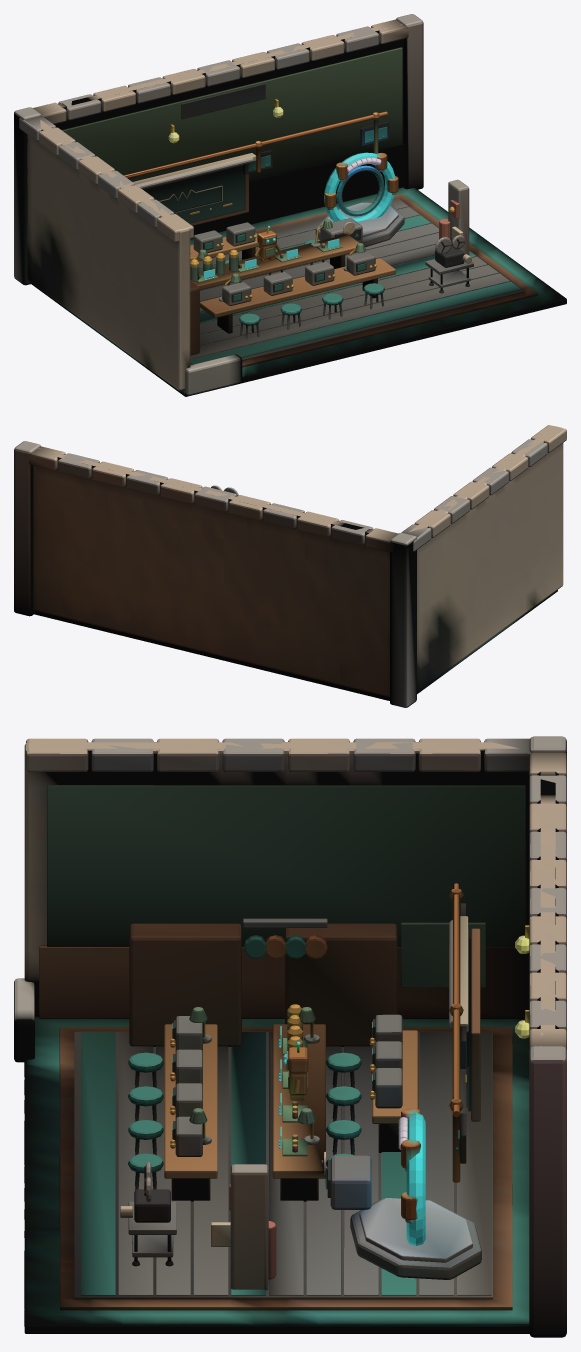
The model's file is electronics-room.glb.
The picture shows the model from 3 angles, top to bottom: view 1: azimuth 30°, elevation 25°; view 2: azimuth 150°, elevation 25°; view 3: azimuth 270°, elevation 25°; orthographic projection. The views are drawn at different scales.
Visible parts, largest first — view 1: ROOM_electronica__shell, ELECTRO__progress_board__mesh, ELECTRO__bench_0__mesh, ELECTRO__bench_1__mesh, ELECTRO__projector__mesh, ELECTRO__ohmdal_portal, ELECTRO__progress_robot__mesh, ELECTRO__oscilloscope_0_3__mesh, ELECTRO__oscilloscope_0_1__mesh, ELECTRO__oscilloscope_0_2__mesh, ELECTRO__oscilloscope_0_0__mesh; view 2: ROOM_electronica__shell; view 3: ROOM_electronica__shell, ELECTRO__bench_1__mesh, ELECTRO__bench_0__mesh, ELECTRO__projector__mesh, ELECTRO__ohmdal_portal, ELECTRO__progress_robot__mesh, ELECTRO__oscilloscope_0_3__mesh, ELECTRO__oscilloscope_0_1__mesh, ELECTRO__oscilloscope_0_0__mesh, ELECTRO__oscilloscope_0_2__mesh.
Part boxes in pixels (x1,y1,x2,y2): ROOM_electronica__shell: [14, 14, 566, 396]; ELECTRO__progress_board__mesh: [145, 167, 244, 222]; ELECTRO__bench_0__mesh: [200, 258, 395, 333]; ELECTRO__bench_1__mesh: [190, 234, 358, 289]; ELECTRO__projector__mesh: [425, 235, 473, 293]; ELECTRO__ohmdal_portal: [324, 152, 395, 221]; ELECTRO__progress_robot__mesh: [254, 225, 280, 262]; ELECTRO__oscilloscope_0_3__mesh: [346, 251, 376, 275]; ELECTRO__oscilloscope_0_1__mesh: [263, 272, 293, 295]; ELECTRO__oscilloscope_0_2__mesh: [305, 261, 335, 285]; ELECTRO__oscilloscope_0_0__mesh: [222, 282, 252, 305]; ROOM_electronica__shell: [14, 425, 566, 707]; ROOM_electronica__shell: [14, 736, 566, 1337]; ELECTRO__bench_1__mesh: [272, 1024, 325, 1201]; ELECTRO__bench_0__mesh: [164, 1024, 217, 1201]; ELECTRO__projector__mesh: [120, 1162, 176, 1266]; ELECTRO__ohmdal_portal: [406, 1112, 425, 1245]; ELECTRO__progress_robot__mesh: [283, 1041, 308, 1100]; ELECTRO__oscilloscope_0_3__mesh: [170, 1116, 202, 1156]; ELECTRO__oscilloscope_0_1__mesh: [170, 1049, 202, 1085]; ELECTRO__oscilloscope_0_0__mesh: [170, 1016, 202, 1051]; ELECTRO__oscilloscope_0_2__mesh: [170, 1083, 202, 1119].
Size of the model in its own units: 14.7 by 5.96 by 10.56.
